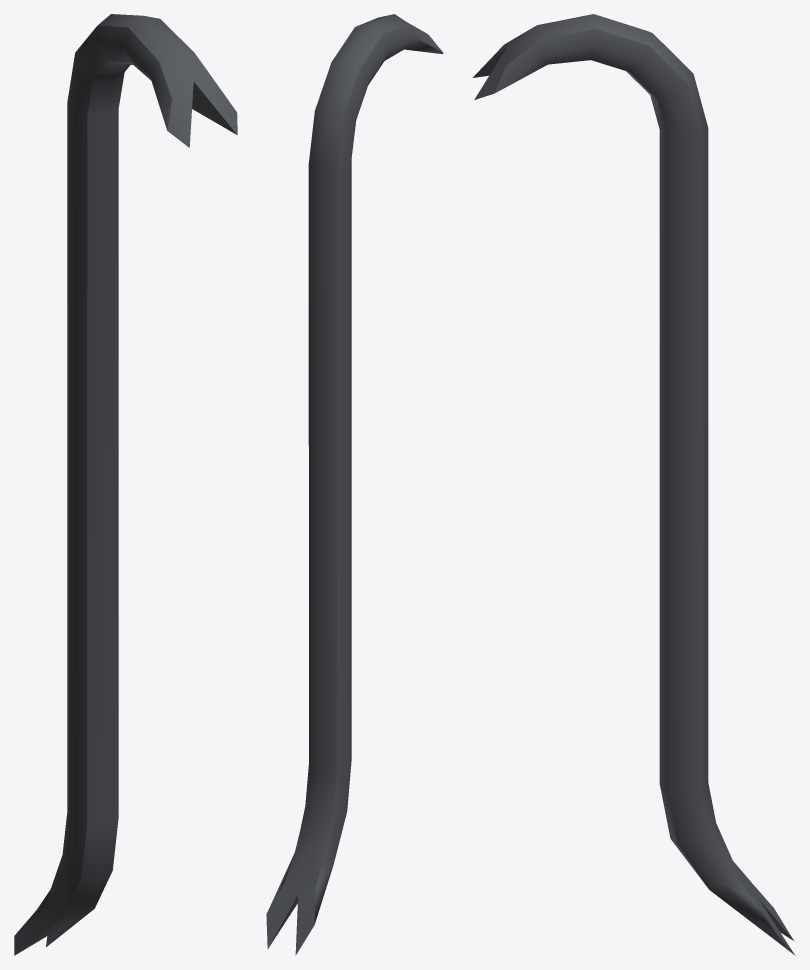
Rendered from crowbar.glb.
The picture shows the model from 3 angles, left to right: view 1: azimuth 30°, elevation 25°; view 2: azimuth 150°, elevation 25°; view 3: azimuth 270°, elevation 25°; orthographic projection. The views are drawn at different scales.
Parts seen in each view (by area): view 1: CrowbarPocket; view 2: CrowbarPocket; view 3: CrowbarPocket.
Part boxes in pixels (<box>): CrowbarPocket: <box>14,14,237,955</box>; CrowbarPocket: <box>266,14,443,955</box>; CrowbarPocket: <box>473,14,795,955</box>.
Bounding box in the file's own units: 0.0574 × 0.7755 × 0.2428.
Materials: 1 (1 with a texture image).
